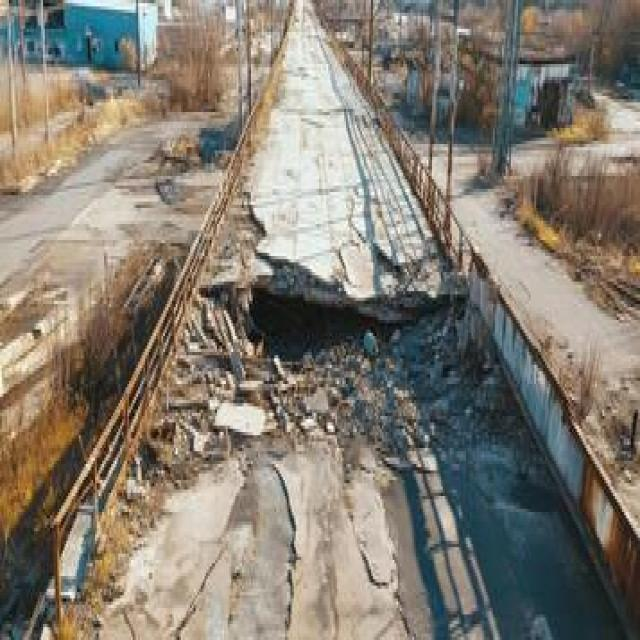road collapse: (96, 0, 634, 640)
